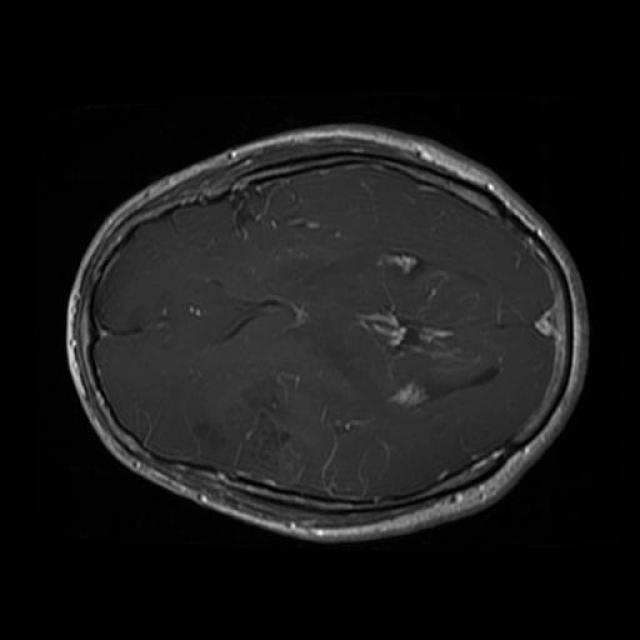Glioma: (233, 373, 307, 477)
